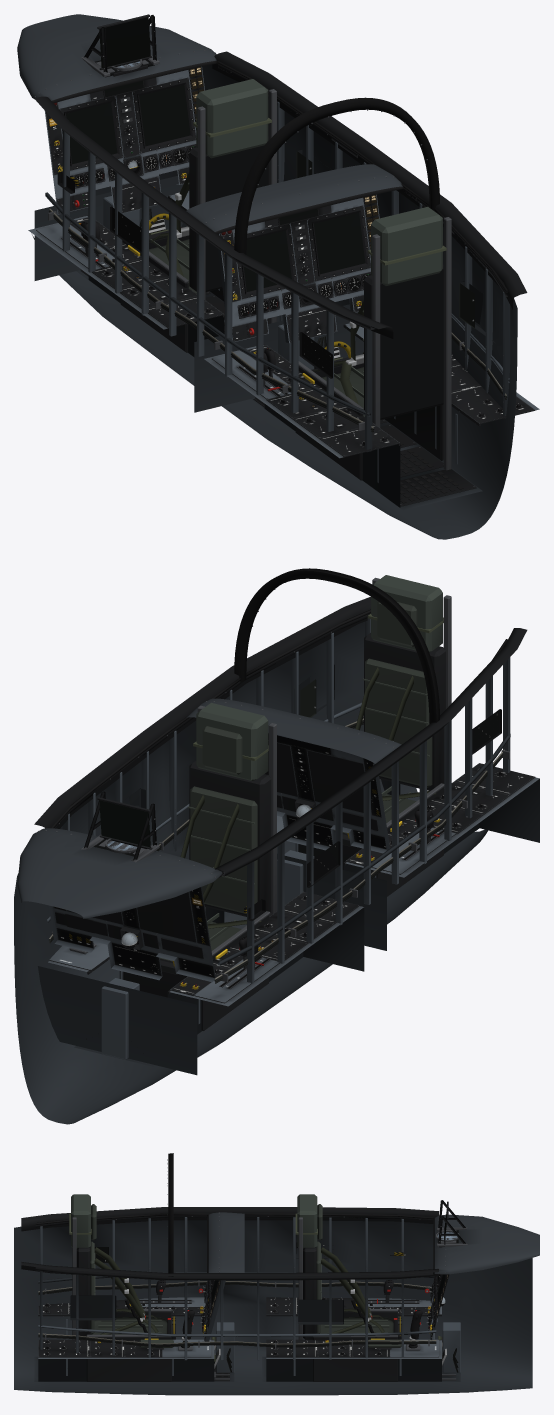
File: stormbird.glb
3 renders of one model, top to bottom at view 1: azimuth 30°, elevation 25°; view 2: azimuth 150°, elevation 25°; view 3: azimuth 270°, elevation 25°, orthographic. The views are drawn at different scales.
Visible parts, largest first — view 1: Static_paint_dark, Rear_Static_black, Static_paint, Rear_Static_atlas, Static_black, Static_atlas, Canopy_attached__black, Static_cover, Rear_Static_paint_dark, Rear_Static_cover, Rear_Static_metal_dark, Canopy_attached__rubber (+19 smaller); view 2: Static_paint_dark, Static_paint, Static_black, Static_cover, Canopy_attached__black, Static_atlas, Rear_Static_black, Rear_Static_atlas, Static_cushion, Rear_Static_cushion, Rear_Static_paint_dark, Canopy_attached__rubber (+13 smaller); view 3: Static_paint_dark, Static_black, Static_paint, Canopy_attached__black, Static_cover, Static_atlas, Rear_Static_atlas, Rear_Static_black, Rear_Static_cover, Rear_Static_paint_dark, Static_wire, Static_metal_dark (+16 smaller).
Boxes of the visible parts, box(x1,y1,x2,y2) form: Static_paint_dark: box(31, 64, 517, 539); Rear_Static_black: box(212, 195, 535, 506); Static_paint: box(45, 101, 510, 452); Rear_Static_atlas: box(204, 194, 539, 458); Static_black: box(36, 14, 508, 352); Static_atlas: box(28, 66, 223, 329); Canopy_attached__black: box(34, 51, 527, 338); Static_cover: box(17, 14, 331, 170); Rear_Static_paint_dark: box(194, 304, 482, 510); Rear_Static_cover: box(186, 164, 495, 343); Rear_Static_metal_dark: box(205, 176, 533, 505); Canopy_attached__rubber: box(234, 97, 439, 254); Static_paint_dark: box(14, 621, 488, 1124); Static_paint: box(47, 618, 510, 1059); Static_black: box(45, 613, 448, 1030); Static_cover: box(17, 788, 222, 918); Canopy_attached__black: box(34, 596, 527, 877); Static_atlas: box(48, 887, 363, 1006); Rear_Static_black: box(265, 633, 534, 896); Rear_Static_atlas: box(268, 733, 539, 877); Static_cushion: box(160, 726, 257, 961); Rear_Static_cushion: box(300, 601, 432, 833); Rear_Static_paint_dark: box(277, 778, 539, 950); Canopy_attached__rubber: box(234, 568, 439, 724); Static_paint_dark: box(14, 1220, 532, 1395); Static_black: box(35, 1200, 465, 1381); Static_paint: box(38, 1217, 460, 1375); Canopy_attached__black: box(21, 1207, 438, 1280); Static_cover: box(298, 1214, 539, 1324); Static_atlas: box(266, 1252, 447, 1358); Rear_Static_atlas: box(38, 1280, 220, 1358); Rear_Static_black: box(38, 1247, 229, 1381); Rear_Static_cover: box(70, 1212, 244, 1320); Rear_Static_paint_dark: box(34, 1356, 234, 1381); Static_wire: box(38, 1282, 458, 1372); Static_metal_dark: box(45, 1214, 467, 1380).
Bounding box in the file's own units: 1.14 × 1.71 × 3.65.
Materials: 26 (1 with a texture image).
